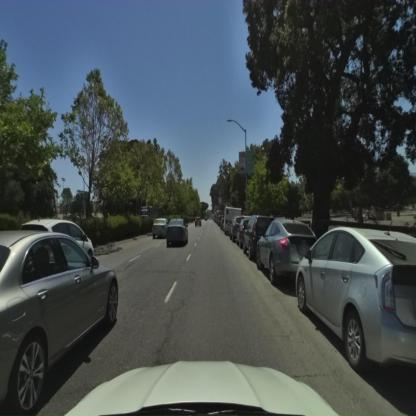car: (0, 227, 122, 414), (296, 225, 416, 397), (256, 221, 318, 287), (21, 219, 96, 267), (244, 216, 278, 262), (167, 222, 189, 248), (222, 207, 242, 235), (232, 217, 251, 245), (152, 218, 168, 239)
